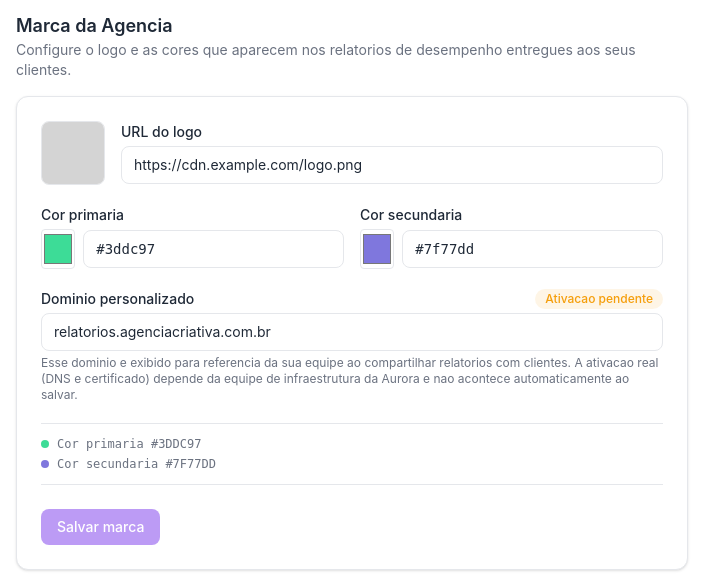
Test: AgencyBrandingPage - ADR-0048 (US-43 branding configuration) › disables the save action until the form has unsaved changes
Expected: the button "Salvar marca" is disabled, [41, 509, 160, 545]
Type "2" into the field labelled "URL do logo" at [392, 165], box [121, 146, 663, 184]
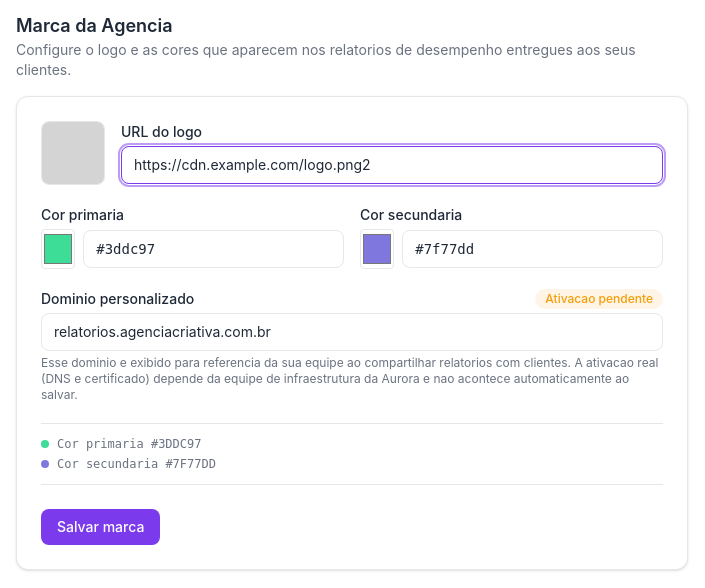
Expected: the button "Salvar marca" is enabled, [41, 509, 160, 545]
